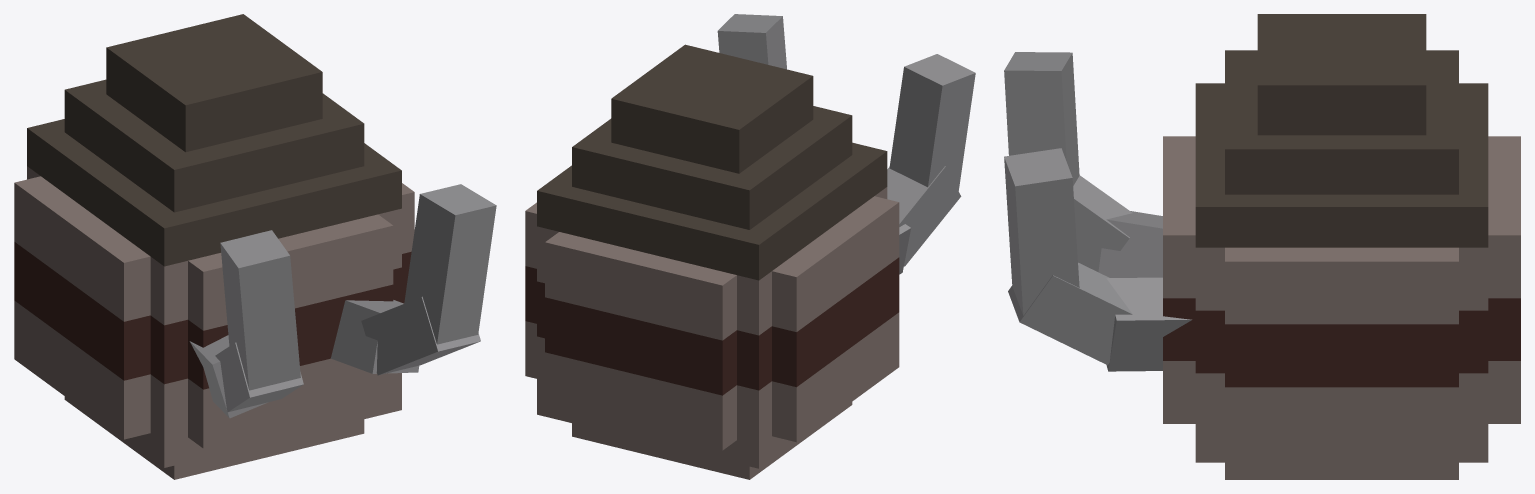
File: 37.Mammoth Cocofanto.fbx
3 views of the same model, side by side, from view 1: azimuth 30°, elevation 25°; view 2: azimuth 150°, elevation 25°; view 3: azimuth 270°, elevation 25° (orthographic). The views are drawn at different scales.
Parts seen in each view (by area): view 1: Mammoth_Cocofanto; view 2: Mammoth_Cocofanto; view 3: Mammoth_Cocofanto.
Boxes of the visible parts, box(x1,y1,x2,y2) form: Mammoth_Cocofanto: box(14, 14, 496, 479); Mammoth_Cocofanto: box(525, 14, 975, 479); Mammoth_Cocofanto: box(1004, 14, 1520, 479).
Bounding box in the file's own units: 2.89 × 3.39 × 4.17.
